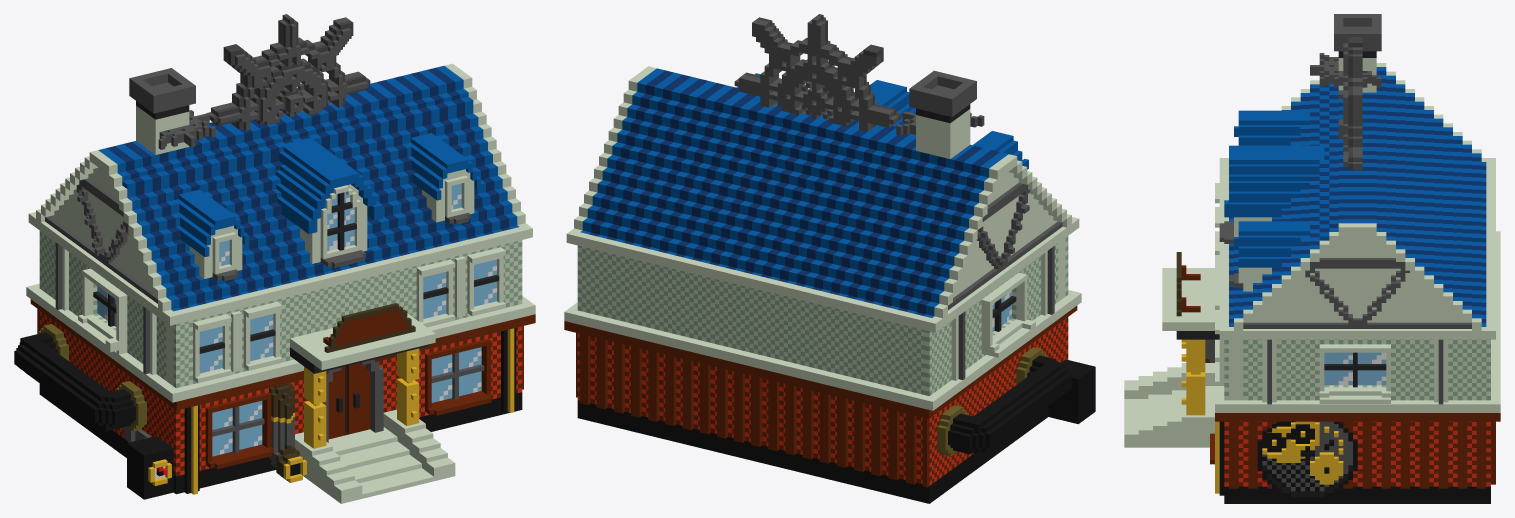
File: house.obj
3 renders of one model, left to right at view 1: azimuth 30°, elevation 25°; view 2: azimuth 150°, elevation 25°; view 3: azimuth 270°, elevation 25°, orthographic. The views are drawn at different scales.
Parts seen in each view (by area): view 1: house; view 2: house; view 3: house.
Part boxes in pixels (box(x1,y1,x2,y2)): house: box(14, 14, 535, 503); house: box(564, 14, 1095, 503); house: box(1124, 14, 1500, 503).
Size of the model in its own units: 96 by 87 by 79.
Materials: 1 (1 with a texture image).
